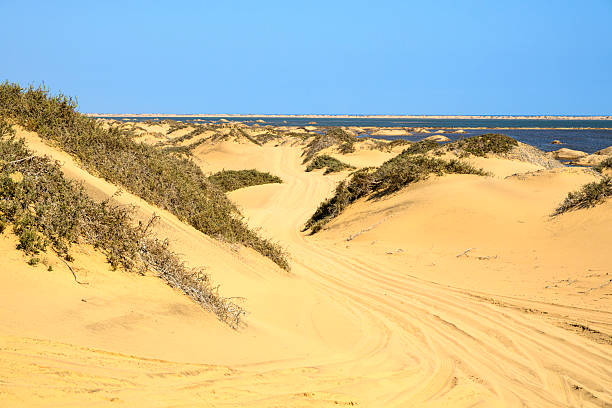human_foot_print: (133, 277, 387, 398), (394, 272, 594, 383), (346, 285, 450, 401), (271, 155, 301, 250)
